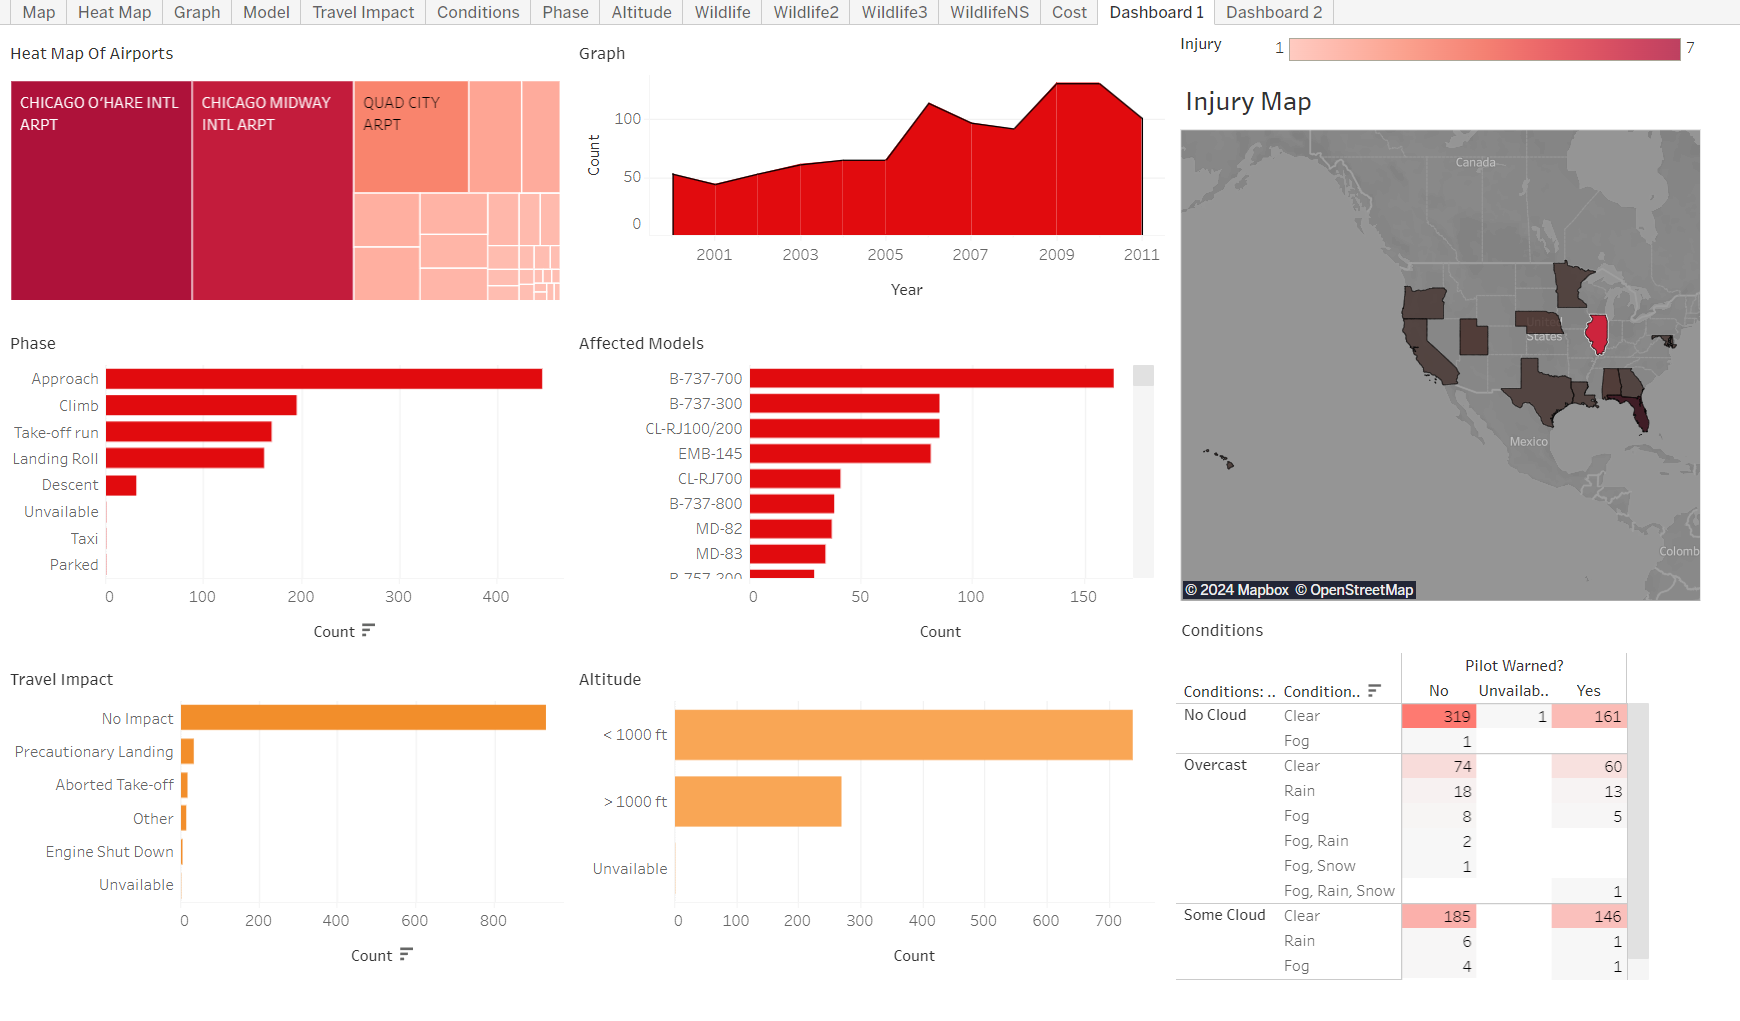

The dashboard page shown, as its layout file describes it:
{"tool":"tableau","page":{"name":"Dashboard 1","canvas":[1366,768],"ordinal":0},"visuals":[{"type":"worksheet","title":"Heat Map","mark":"Automatic","box":[0,0,455,227]},{"type":"worksheet","title":"Graph","mark":"Area","rows":["F1"],"cols":["FlightDate"],"box":[455,0,481,227]},{"type":"legend","title":"Map","param":"[federated.1nk4k961tnh49r17cxgra0x2zfky].[sum:Number of people injured:qk]","box":[940.3,0,424.6,34]},{"type":"worksheet","title":"Map","mark":"Automatic","box":[940.3,34,424.6,429.4]},{"type":"worksheet","title":"Phase","mark":"Automatic","rows":[" Phase of flight"],"cols":[" Phase of flight"],"box":[0,232,455,269]},{"type":"worksheet","title":"Model","mark":"Automatic","rows":[" Make/Model"],"cols":[" Make/Model"],"box":[455,232,473,269]},{"type":"worksheet","title":"Conditions","mark":"Square","rows":[" Sky"," Precipitation"],"cols":["Pilot warned of birds or wildlife?"],"box":[941,466,419,296]},{"type":"worksheet","title":"Travel Impact","mark":"Bar","rows":[" Impact to flight"],"cols":[" Impact to flight"],"box":[0,501,455,259]},{"type":"worksheet","title":"Altitude","mark":"Automatic","rows":["Altitude bin"],"cols":["Altitude bin"],"box":[455,501,473,259]}]}

Visuals, with their boxes on the page's 1366x768 design canvas (x1, y1, x2, y2). These are canvas units, not pixel positions in the 1740x1021 screenshot, which may show the page scaled, cropped or inside an application window:
"Heat Map" worksheet: [0,0,455,227]
"Graph" worksheet (Area marks): [455,0,936,227]
"Map" legend: [940,0,1365,34]
"Map" worksheet: [940,34,1365,463]
"Phase" worksheet: [0,232,455,501]
"Model" worksheet: [455,232,928,501]
"Conditions" worksheet (Square marks): [941,466,1360,762]
"Travel Impact" worksheet (Bar marks): [0,501,455,760]
"Altitude" worksheet: [455,501,928,760]
